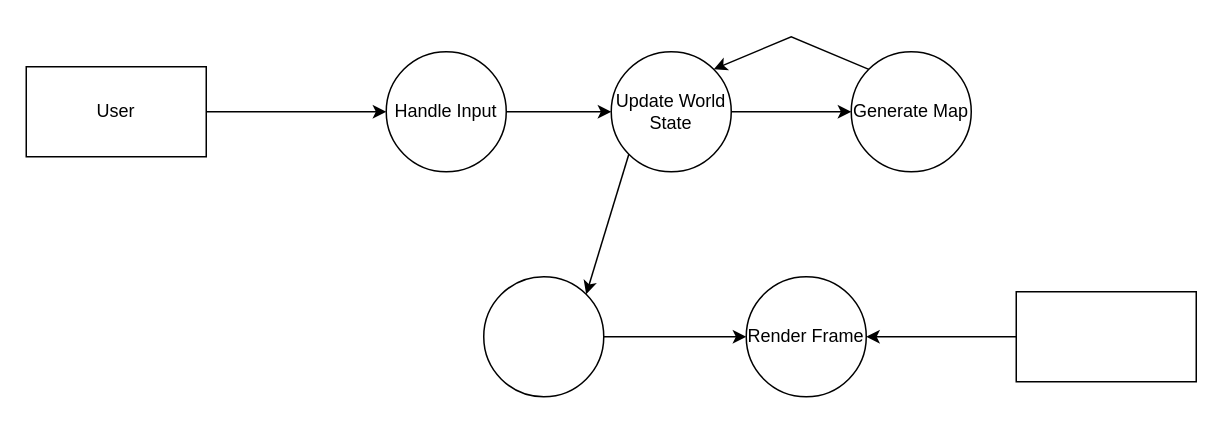
Some shapes in this 1223 by 423 pixel diagram are drawn without their labels. The box of each missing label's shape, as (x1, y1, x2, y2) in pixels:
Detect Collisions: (482, 275, 604, 397)
Display: (1015, 290, 1196, 382)
